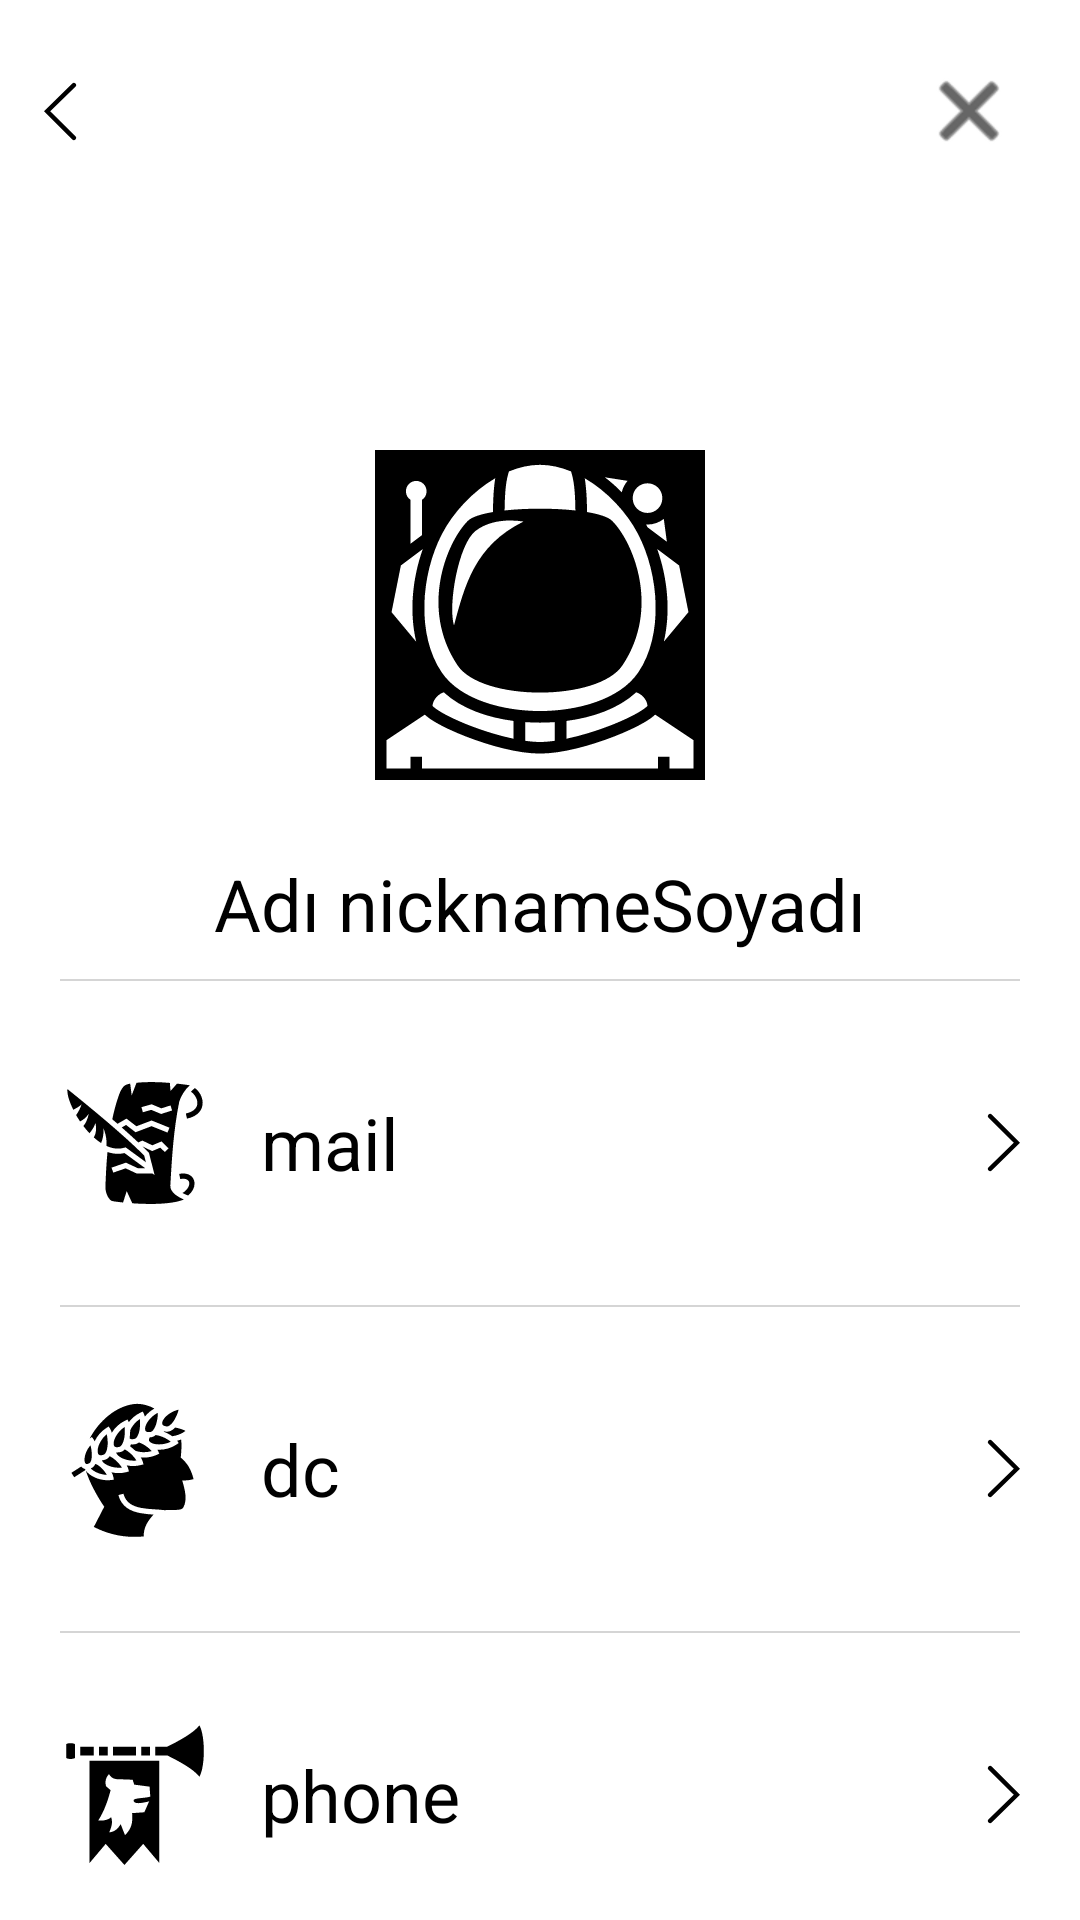

Icon click points for this 1080px x 1920px phone screenshot, format [x,y]:
astronaut helmet: [540,615]
close clear cancel: [969,111]
